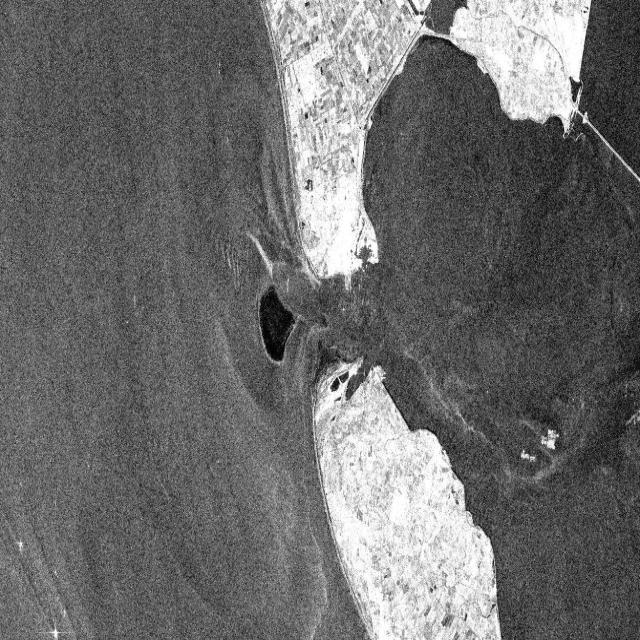look-alike: (253, 278, 301, 374)
